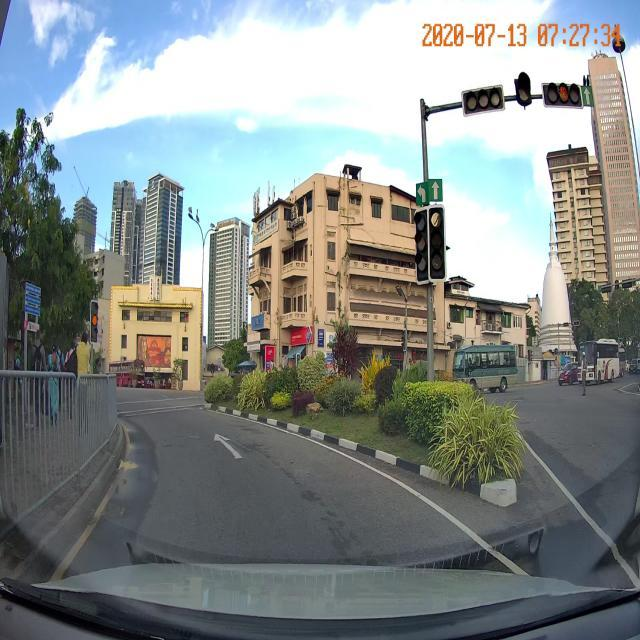forward: (99, 422, 321, 506)
